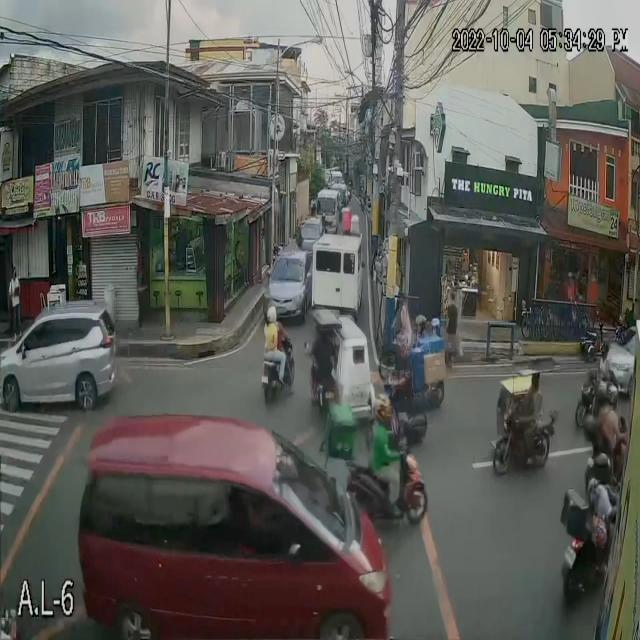Full-Faced: (591, 444, 615, 484), (373, 390, 396, 424), (604, 375, 621, 410), (412, 308, 428, 335), (266, 306, 278, 324)
Half-Faced: (432, 314, 448, 340)
